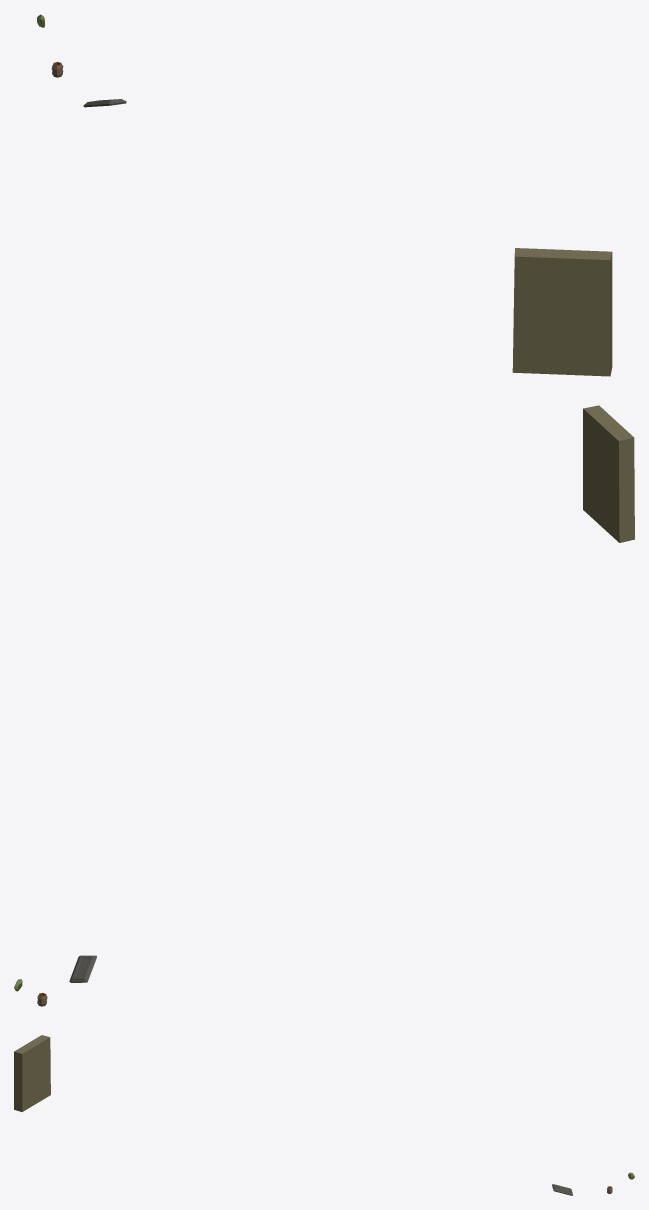
The picture shows the model from 3 angles, top to bottom: view 1: azimuth 30°, elevation 25°; view 2: azimuth 150°, elevation 25°; view 3: azimuth 270°, elevation 25°; orthographic projection. The views are drawn at different scales.
Parts seen in each view (by area): view 1: Box15835_rock2_0; view 2: Box15835_rock2_0; view 3: Box15835_rock2_0.
Boxes of the visible parts, box(x1,y1,x2,y2) form: Box15835_rock2_0: box(512, 248, 612, 376); Box15835_rock2_0: box(583, 405, 634, 542); Box15835_rock2_0: box(14, 1035, 50, 1111).
Size of the model in its own units: 720 by 1448 by 6143.
